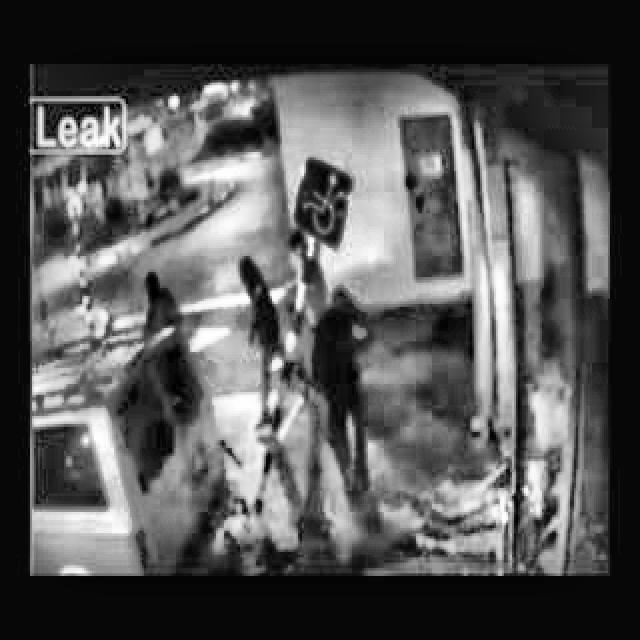burglary: (86, 230, 610, 575)
